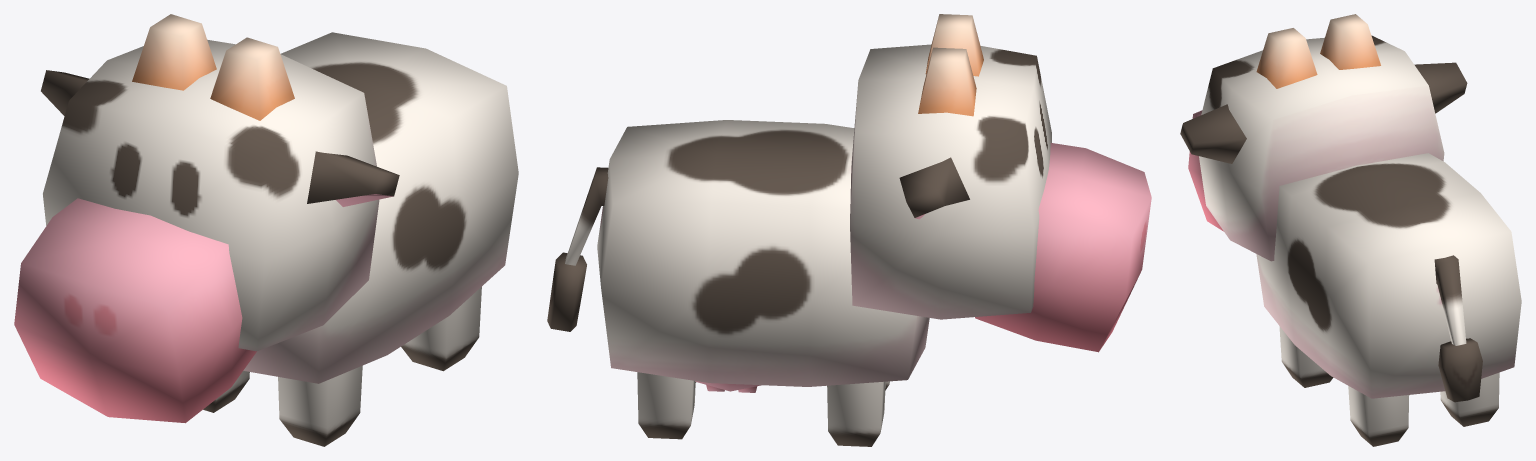
The model's file is cow.obj.
3 renders of one model, left to right at view 1: azimuth 30°, elevation 25°; view 2: azimuth 150°, elevation 25°; view 3: azimuth 270°, elevation 25°, orthographic. The views are drawn at different scales.
Parts seen in each view (by area): view 1: cow; view 2: cow; view 3: cow.
Boxes of the visible parts, bbox=[...] form: cow: bbox=[14, 14, 518, 446]; cow: bbox=[547, 14, 1151, 446]; cow: bbox=[1180, 14, 1521, 446].
Size of the model in its own units: 6.43 by 4.72 by 4.63.
1 material, 1 textured.
